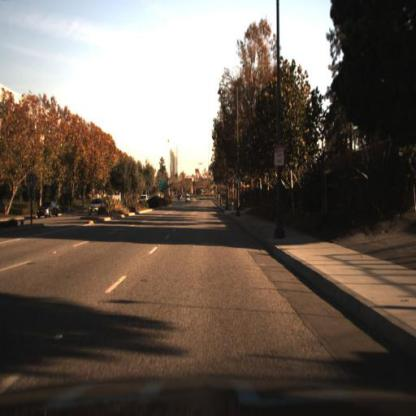car: (34, 200, 58, 223), (85, 195, 107, 219), (182, 191, 194, 210), (138, 190, 150, 205)
